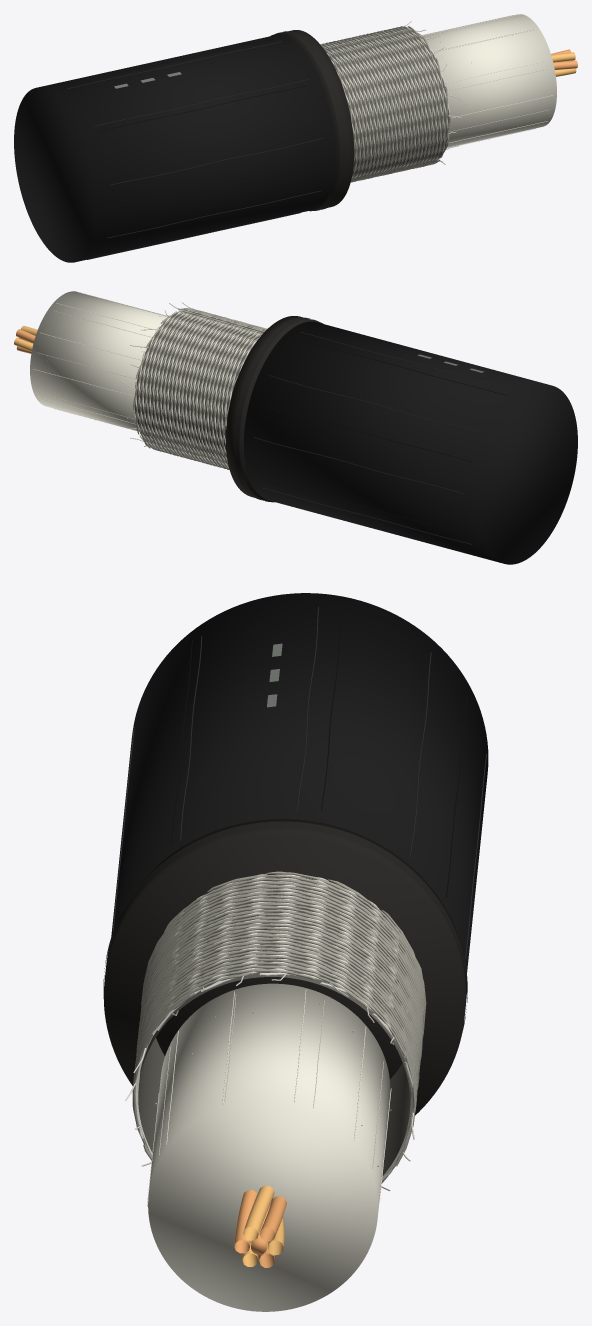
The model's file is rf-syv507-macro.glb.
3 views of the same model, one above another, from view 1: azimuth 30°, elevation 25°; view 2: azimuth 150°, elevation 25°; view 3: azimuth 270°, elevation 25° (orthographic). The views are drawn at different scales.
Parts seen in each view (by area): view 1: macro jacket body, macro dielectric exposed core, shadow seen through braid windows, thick jacket cut wall, rounded jacket cut lip, macro braid shadow carrier 08 strand 1, macro braid shadow carrier 06 strand 1, macro braid shadow carrier 07 strand 1, macro braid shadow carrier 05 strand 1, macro braid shadow carrier 09 strand 1, macro braid shadow carrier 04 strand 1, macro braid shadow carrier 10 strand 1 (+7 smaller); view 2: macro jacket body, macro dielectric exposed core, shadow seen through braid windows, thick jacket cut wall, rounded jacket cut lip, macro braid shadow carrier 04 strand 1, macro braid shadow carrier 03 strand 1, macro braid shadow carrier 02 strand 1, macro braid shadow carrier 01 strand 1, macro braid shadow carrier 14 strand 1, macro braid shadow carrier 05 strand 1, macro braid shadow carrier 13 strand 1 (+7 smaller); view 3: macro jacket body, macro dielectric exposed core, thick jacket cut wall, shadow seen through braid windows, rounded jacket cut lip, macro braid shadow carrier 09 strand 3, macro braid shadow carrier 10 strand 3, macro braid shadow carrier 11 strand 3, macro braid shadow carrier 07 strand 3, macro braid shadow carrier 13 strand 3, macro braid shadow carrier 06 strand 3, macro braid shadow carrier 12 strand 3 (+8 smaller).
Part boxes in pixels (x1,y1,x2,y2): macro jacket body: (14, 34, 335, 262); macro dielectric exposed core: (420, 14, 556, 147); shadow seen through braid windows: (324, 28, 449, 177); thick jacket cut wall: (270, 30, 353, 211); rounded jacket cut lip: (276, 31, 345, 210); macro braid shadow carrier 08 strand 1: (348, 26, 432, 181); macro braid shadow carrier 06 strand 1: (341, 28, 425, 181); macro braid shadow carrier 07 strand 1: (344, 27, 429, 182); macro braid shadow carrier 05 strand 1: (337, 28, 421, 179); macro braid shadow carrier 09 strand 1: (352, 26, 436, 180); macro braid shadow carrier 04 strand 1: (333, 29, 417, 176); macro braid shadow carrier 10 strand 1: (356, 36, 440, 178); macro jacket body: (243, 321, 577, 564); macro dielectric exposed core: (30, 291, 167, 431); shadow seen through braid windows: (134, 311, 263, 463); thick jacket cut wall: (225, 316, 323, 502); rounded jacket cut lip: (233, 317, 317, 501); macro braid shadow carrier 04 strand 1: (140, 314, 266, 463); macro braid shadow carrier 03 strand 1: (143, 315, 266, 464); macro braid shadow carrier 02 strand 1: (147, 315, 266, 464); macro braid shadow carrier 01 strand 1: (150, 317, 264, 465); macro braid shadow carrier 14 strand 1: (154, 318, 262, 466); macro braid shadow carrier 05 strand 1: (136, 313, 258, 461); macro braid shadow carrier 13 strand 1: (158, 319, 259, 467); macro jacket body: (111, 593, 488, 972); macro dielectric exposed core: (148, 983, 390, 1311); thick jacket cut wall: (103, 819, 466, 1115); shadow seen through braid windows: (138, 878, 411, 1175); rounded jacket cut lip: (103, 821, 467, 1032); macro braid shadow carrier 09 strand 3: (134, 872, 424, 1069); macro braid shadow carrier 10 strand 3: (133, 875, 424, 1078); macro braid shadow carrier 11 strand 3: (138, 878, 423, 1076); macro braid shadow carrier 07 strand 3: (139, 909, 425, 1056); macro braid shadow carrier 13 strand 3: (133, 886, 422, 1144); macro braid shadow carrier 06 strand 3: (141, 910, 426, 1107); macro braid shadow carrier 12 strand 3: (134, 882, 422, 1088).
Size of the model in its own units: 6.47 by 2.01 by 2.12.
